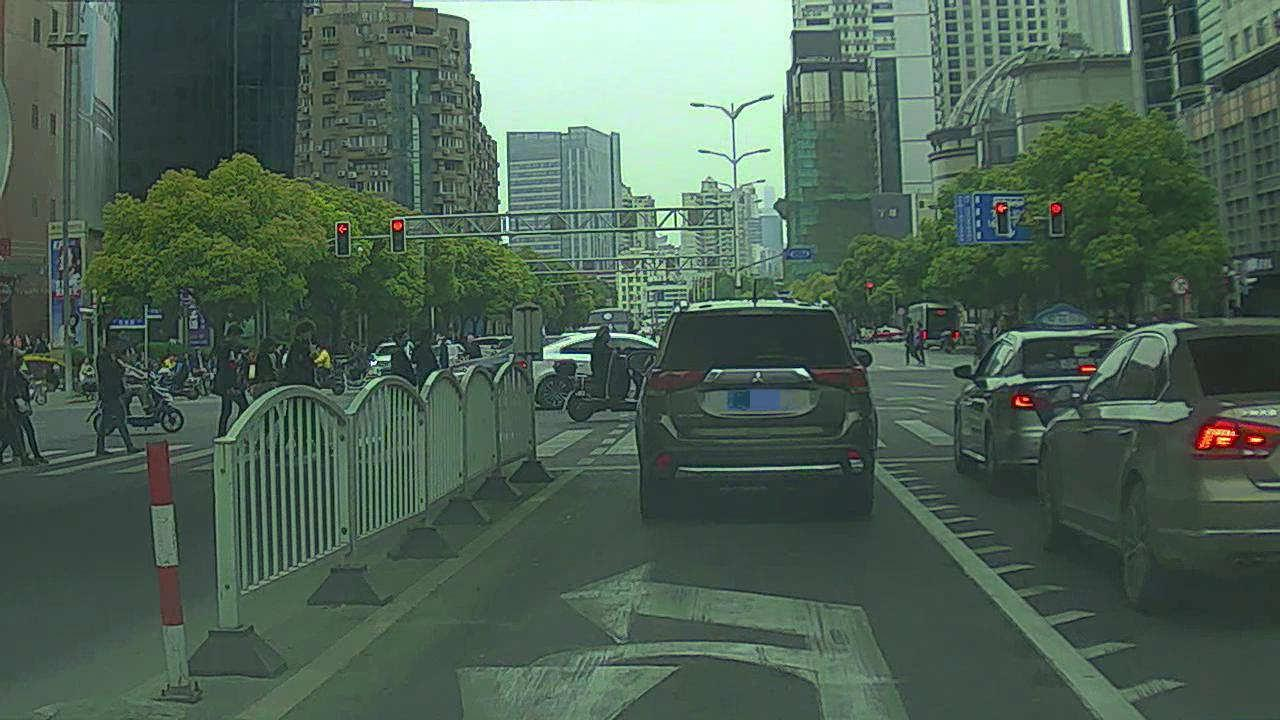traffic_light: (1048, 199, 1065, 239), (997, 199, 1013, 237), (392, 217, 409, 251), (337, 219, 351, 257)
